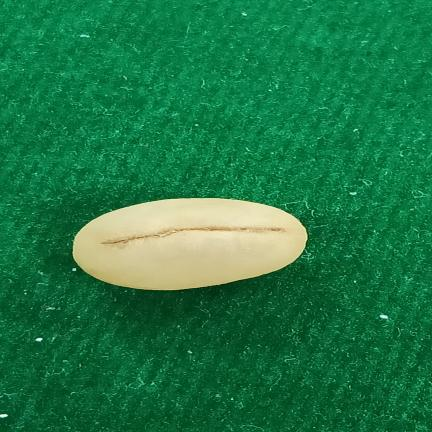parchment: (73, 198, 307, 291)
